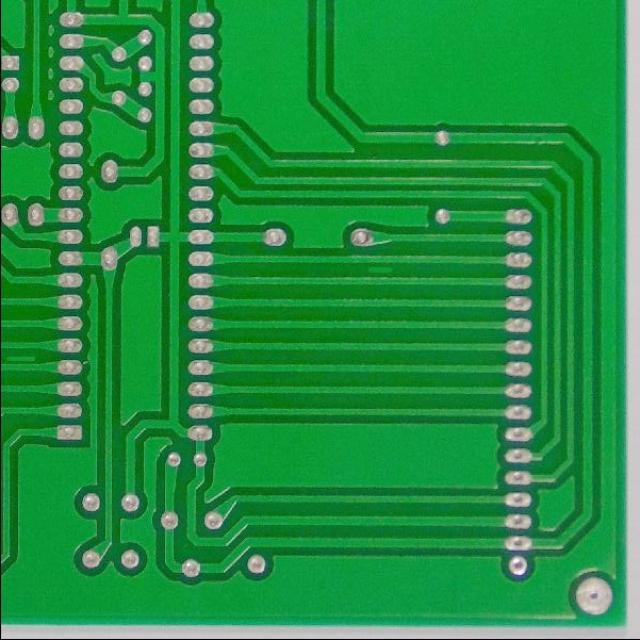spurious_copper: (364, 262, 395, 282), (1, 352, 41, 366)
